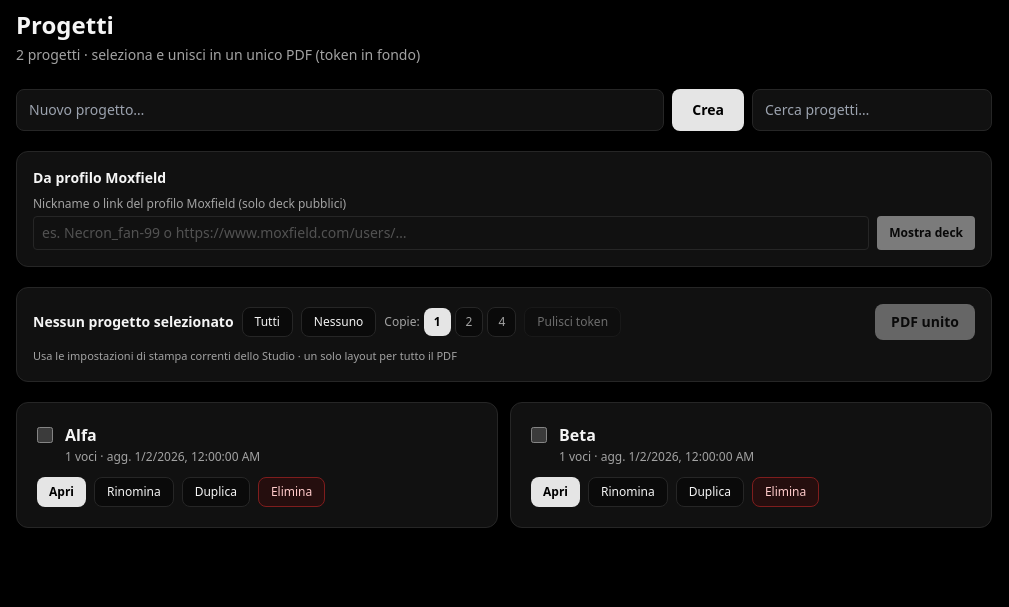
Test: ProjectsView export in blocco › moltiplicatore copie ×4 e bottone disabilitato senza selezione
This screenshot has width=1009, height=607.
Check: the text "Alfa" is shown, box [65,422,97,446]
Check: the button with test id "batch-export" is disabled, box [875,304,975,340]
Click the checkbox named "Seleziona Alfa": [45, 434] box [37,426,53,442]
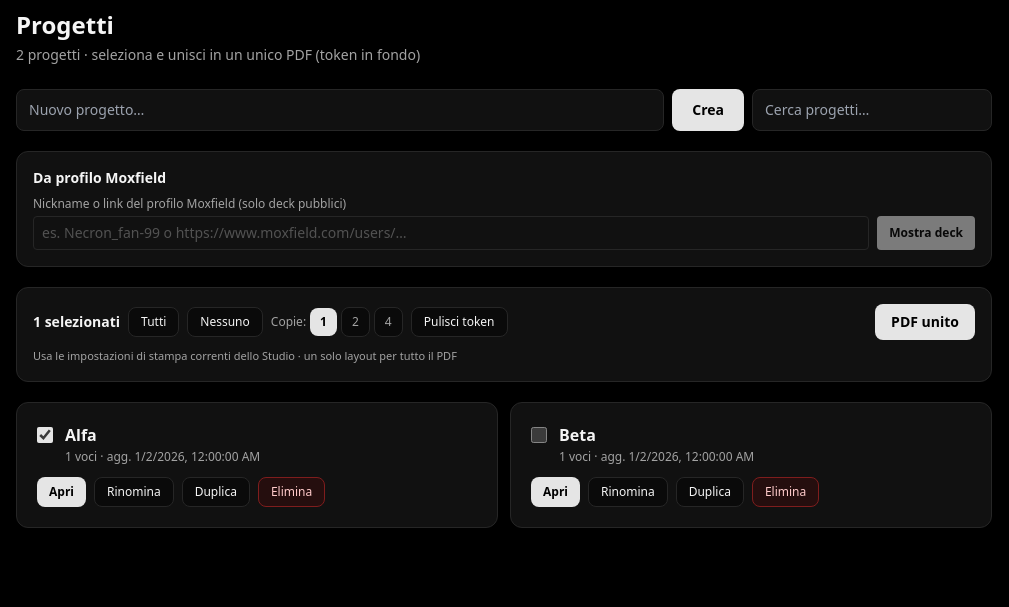
Click the button named "4 copie per carta": [388, 322] box [374,307,403,337]
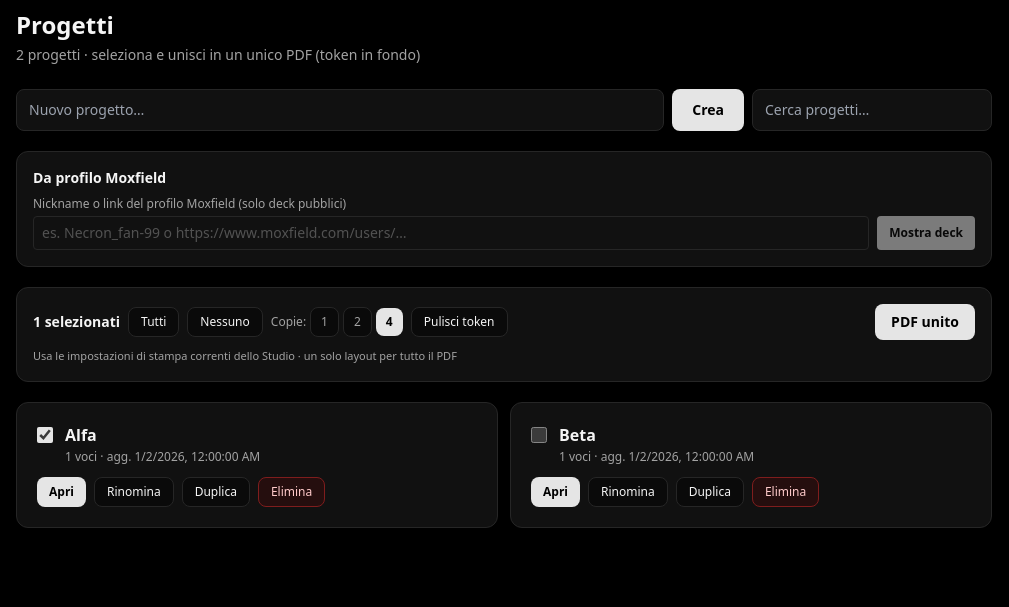
Click the button with test id "batch-export": [925, 322] box [875,304,975,340]
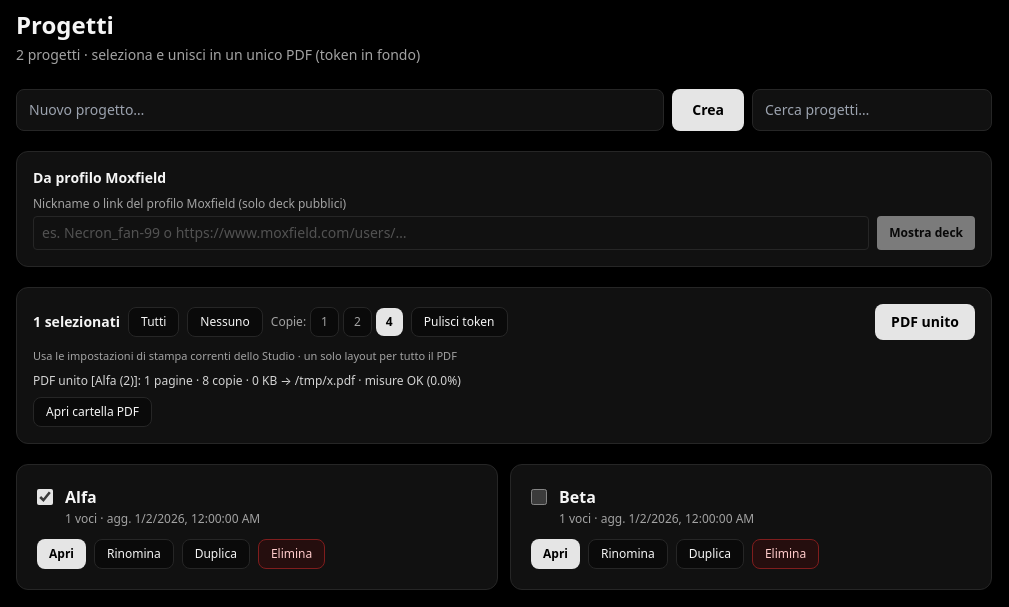
Check: the text with test id "batch-status" shows "8 copie", box [33,372,461,388]
